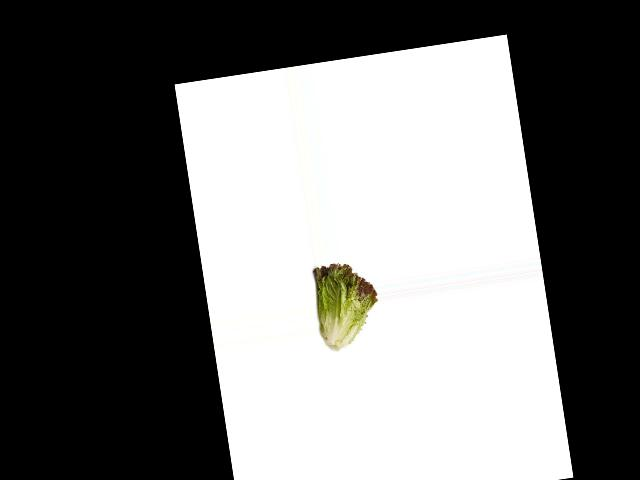lettuce: (311, 256, 383, 351)
